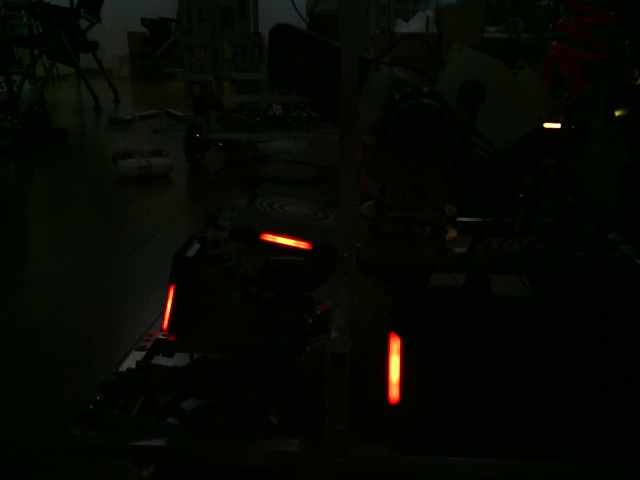lamp: (384, 331, 403, 410), (163, 281, 173, 333)
